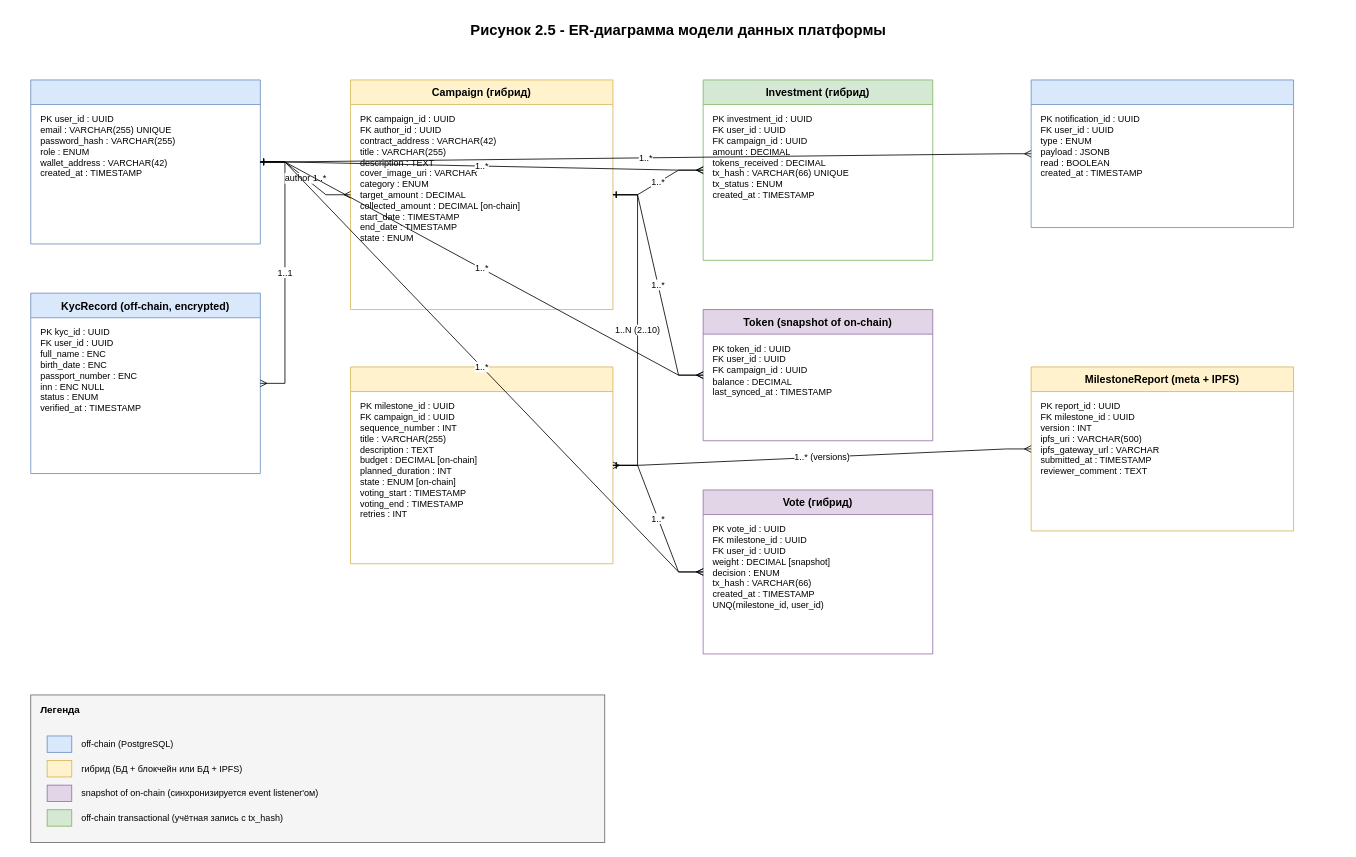
Image size: 1356x857. Some labels were removed from this diagram. Here are the shapes that lost their labels. From the top down, the box of each, then its label:
(30, 79, 260, 244): User (off-chain)
(1030, 79, 1294, 228): Notification (off-chain)
(350, 366, 613, 564): Milestone (гибрид, on-chain state)
